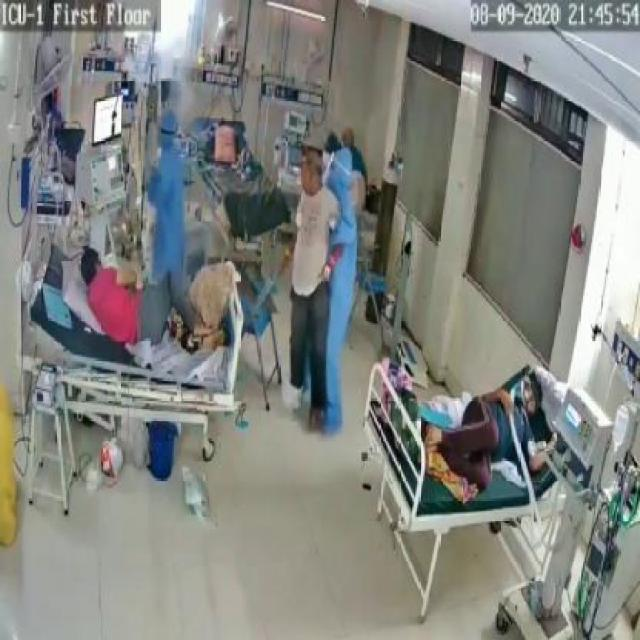smoke: (154, 48, 194, 114)
